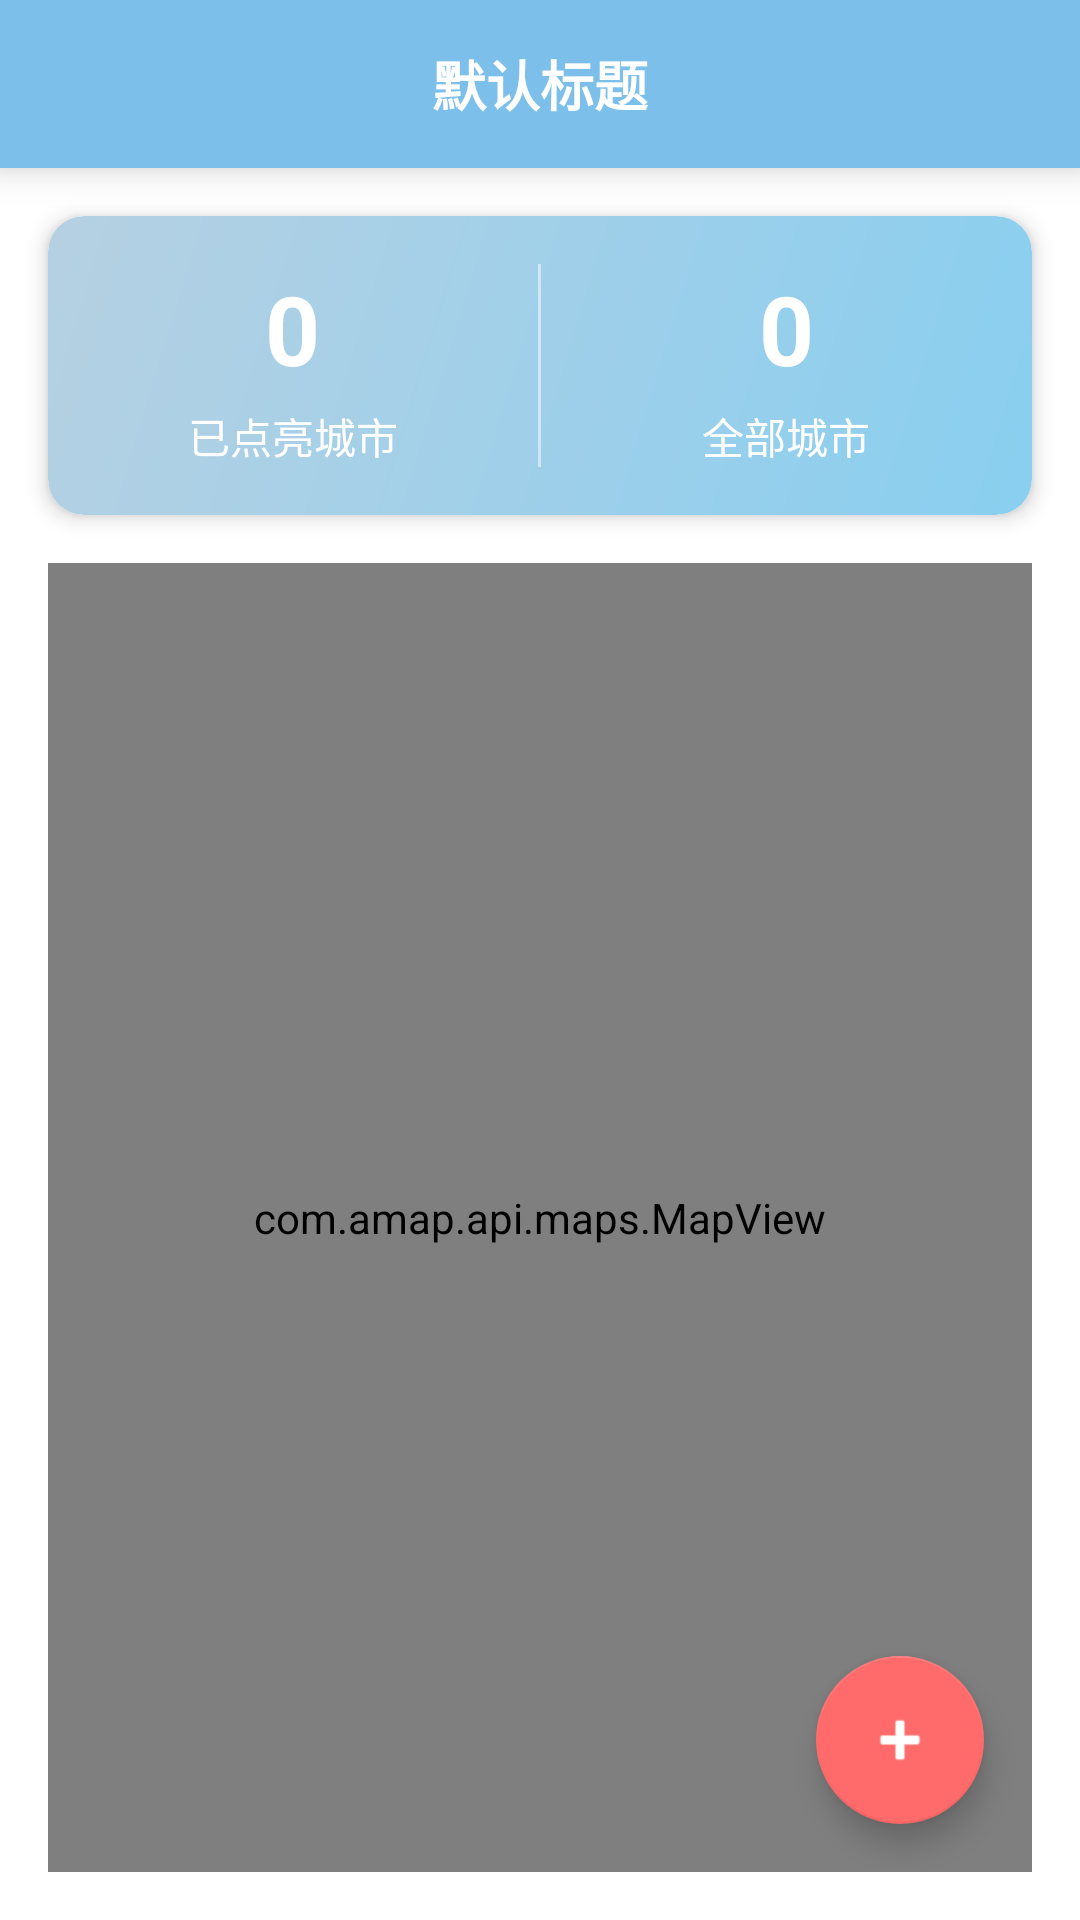

Screen size 1080w x 1920h. Icon name, then its box in pixels as (left=x1, top=y1, right=x2, bottom=y2):
add: (left=816, top=1656, right=984, bottom=1824)
